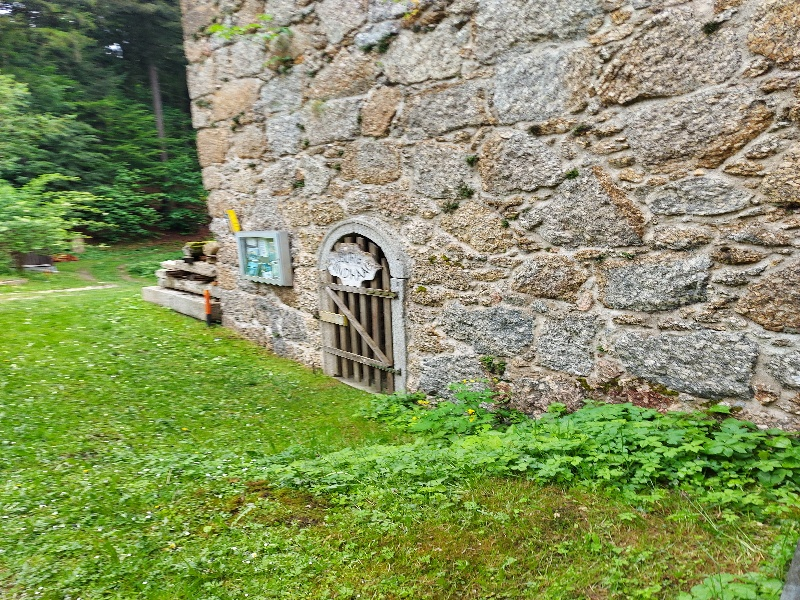dungeon: (306, 215, 414, 403)
